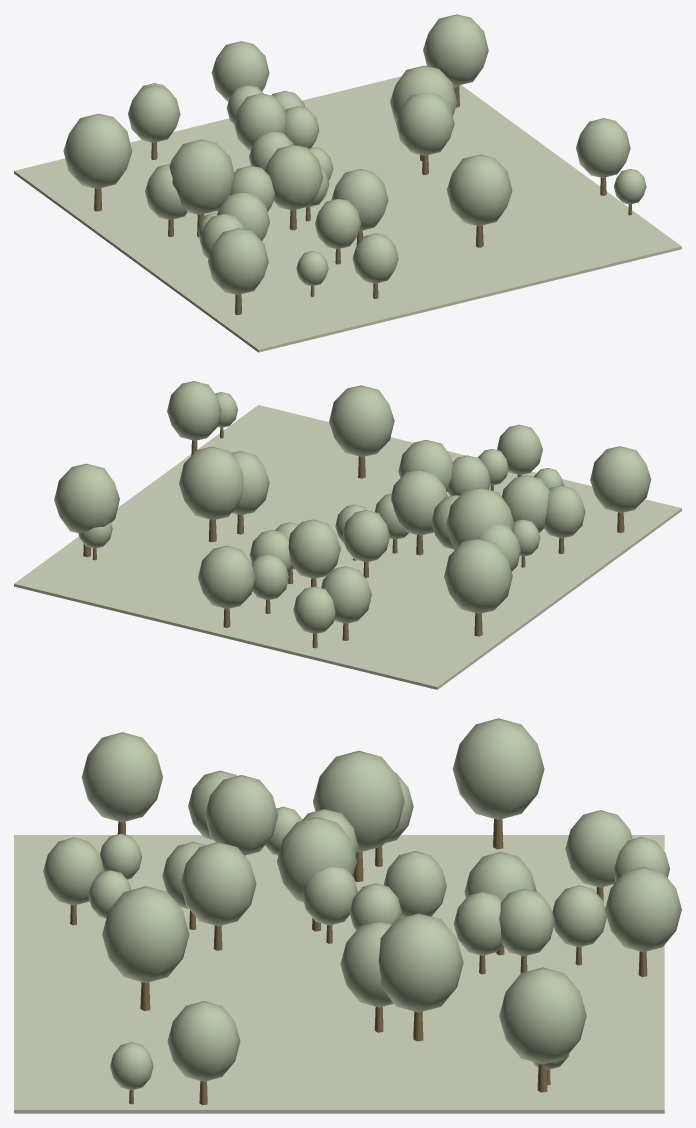
The picture shows the model from 3 angles, top to bottom: view 1: azimuth 30°, elevation 25°; view 2: azimuth 150°, elevation 25°; view 3: azimuth 270°, elevation 25°; orthographic projection. The views are drawn at different scales.
Parts seen in each view (by area): view 1: terrain, lod-near-9, lod-near-17, lod-near-28, lod-near-23, lod-near-15, lod-near-30, lod-near-11, lod-near-18, lod-near-27, lod-near-0, lod-near-1 (+13 smaller); view 2: terrain, lod-near-9, lod-near-29, lod-near-28, lod-near-23, lod-near-15, lod-near-27, lod-near-17, lod-near-11, lod-near-18, lod-near-12, lod-near-0 (+17 smaller); view 3: terrain, lod-near-9, lod-near-29, lod-near-23, lod-near-28, lod-near-17, lod-near-15, lod-near-27, lod-near-1, lod-near-18, lod-near-24, lod-near-11 (+19 smaller).
Part boxes in pixels (x1,y1,x2,y2): terrain: (14, 76, 681, 352); lod-near-9: (63, 113, 132, 188); lod-near-17: (169, 139, 234, 214); lod-near-28: (447, 154, 512, 225); lod-near-23: (423, 14, 488, 86); lod-near-15: (208, 228, 268, 294); lod-near-30: (396, 92, 454, 155); lod-near-11: (265, 144, 323, 210); lod-near-18: (576, 118, 630, 177); lod-near-27: (211, 41, 269, 101); lod-near-0: (128, 85, 180, 142); lod-near-1: (331, 169, 388, 231); terrain: (14, 405, 681, 689); lod-near-9: (444, 538, 512, 613); lod-near-29: (179, 446, 243, 520); lod-near-28: (329, 385, 394, 456); lod-near-23: (54, 463, 119, 533); lod-near-15: (590, 446, 651, 512); lod-near-27: (198, 545, 255, 608); lod-near-17: (446, 487, 514, 548); lod-near-11: (391, 469, 447, 535); lod-near-18: (167, 381, 221, 440); lod-near-12: (288, 519, 340, 578); lod-near-0: (321, 566, 371, 623); terrain: (14, 835, 664, 1113); lod-near-9: (453, 718, 544, 819); lod-near-29: (378, 913, 463, 1012); lod-near-23: (499, 967, 586, 1064); lod-near-28: (102, 886, 189, 982); lod-near-17: (313, 750, 404, 852); lod-near-15: (81, 732, 162, 822); lod-near-27: (605, 867, 681, 952); lod-near-1: (180, 842, 256, 926); lod-near-18: (167, 1001, 240, 1081); lod-near-24: (204, 775, 278, 855); lod-near-11: (277, 817, 356, 901).
Size of the model in its own units: 33.87 by 7.15 by 32.84.
